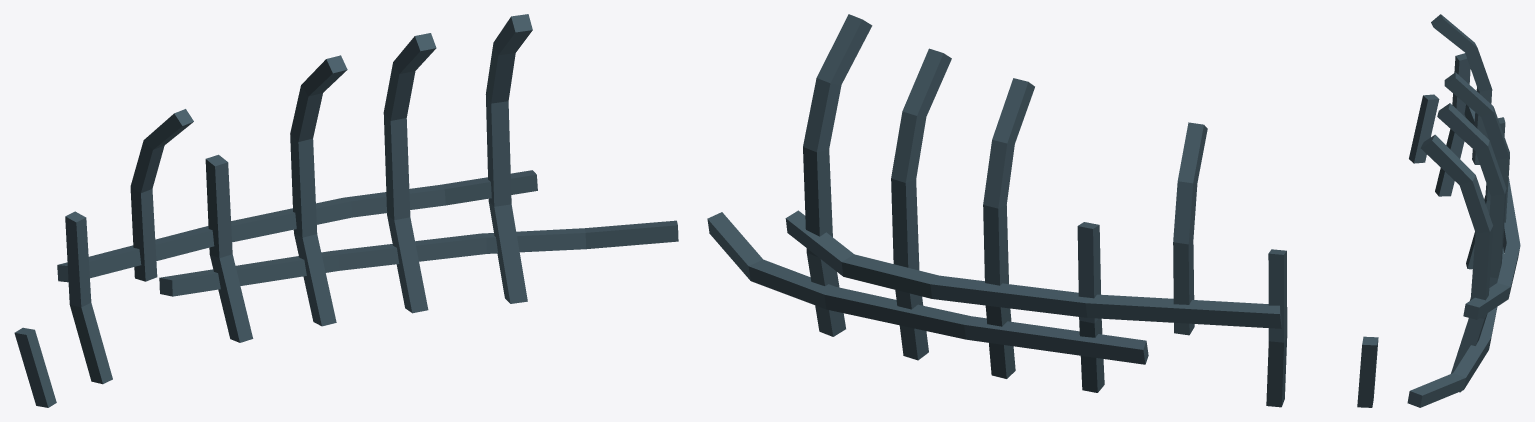
The model's file is Ship_047.glb.
The picture shows the model from 3 angles, left to right: view 1: azimuth 30°, elevation 25°; view 2: azimuth 150°, elevation 25°; view 3: azimuth 270°, elevation 25°; orthographic projection. The views are drawn at different scales.
Parts seen in each view (by area): view 1: Ship_047; view 2: Ship_047; view 3: Ship_047.
Part boxes in pixels (x1,y1,x2,y2): Ship_047: (14, 14, 678, 407); Ship_047: (707, 14, 1378, 407); Ship_047: (1407, 14, 1520, 407).
Size of the model in its own units: 8.59 by 3.73 by 1.54.
Materials: 1 (1 with a texture image).
